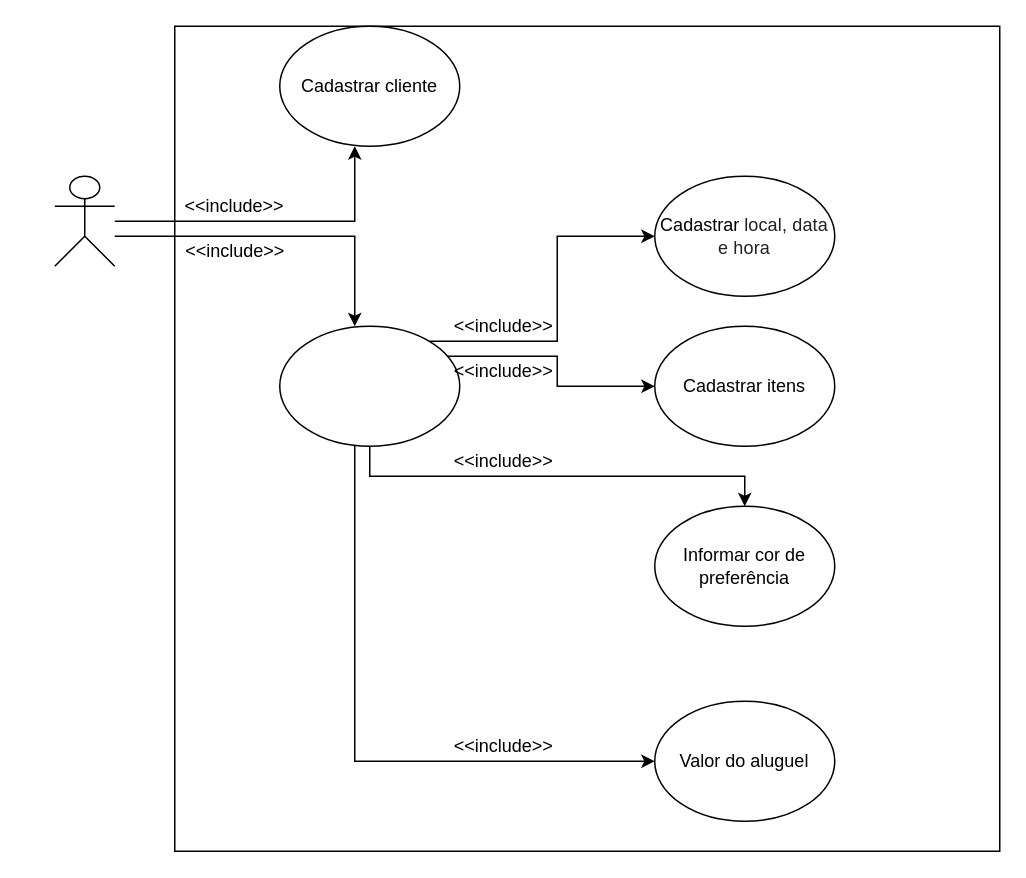
Some shapes in this 1026 by 878 pixel diagram are drawn without their labels. The shapes that lost their labels are listed below. From the top down, each one's box as (x1, y1, x2, y2) in pixels, then its label:
(53, 175, 115, 266): Funcionário da Tico e Teco
(278, 325, 460, 446): Cadastrar tema
